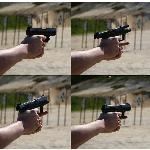Pistol: (93, 22, 131, 42), (16, 94, 48, 114), (25, 25, 56, 42), (101, 101, 131, 117)
